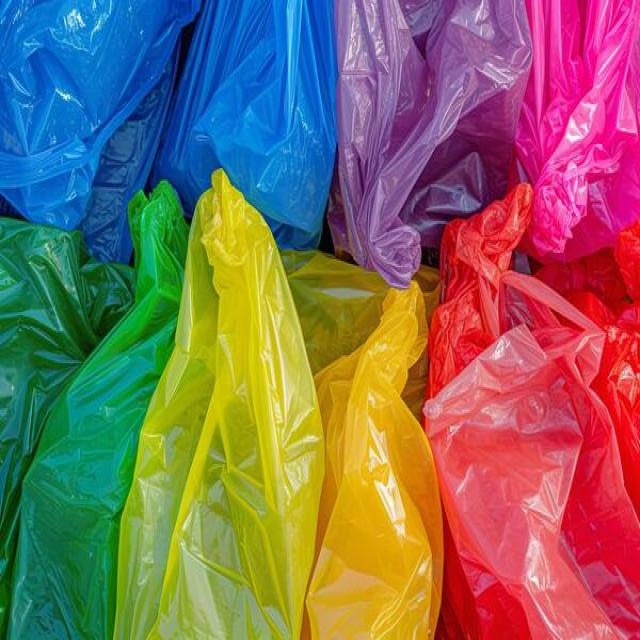plastic_bag: (100, 157, 338, 638), (292, 232, 456, 638)
